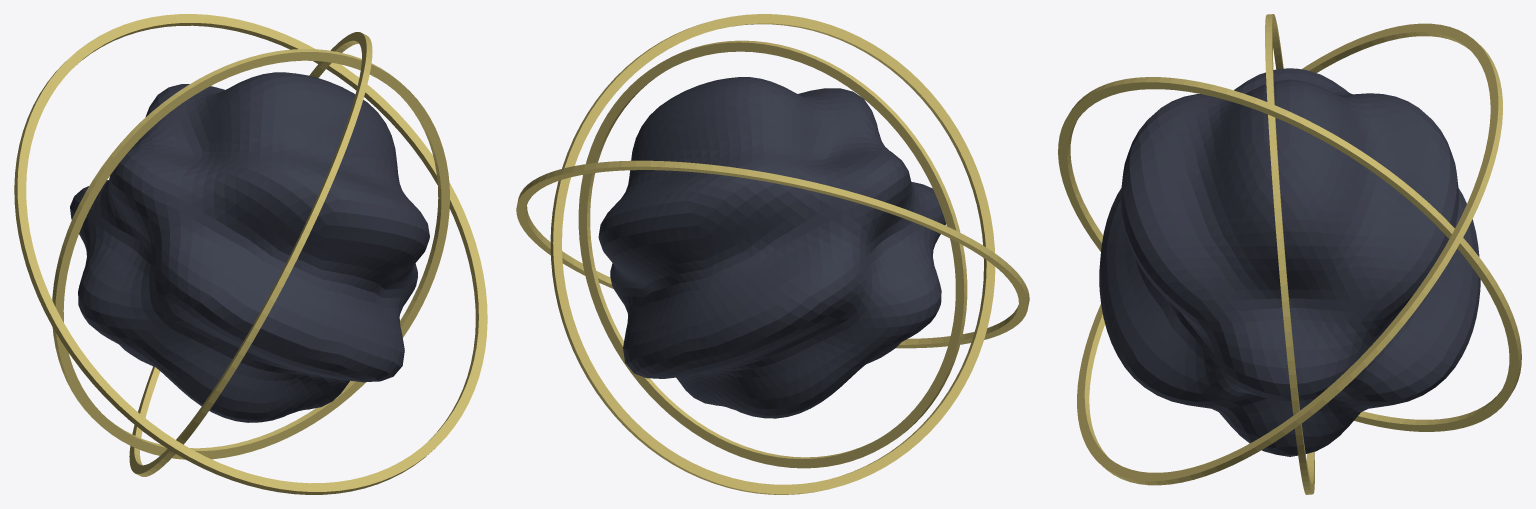
Rendered from gpu-artifact.glb.
3 views of the same model, side by side, from view 1: azimuth 30°, elevation 25°; view 2: azimuth 150°, elevation 25°; view 3: azimuth 270°, elevation 25° (orthographic). The views are drawn at different scales.
Parts seen in each view (by area): view 1: zoth-bounty_obsidian_core, zoth-bounty_orbital_ring_2, zoth-bounty_orbital_ring_0, zoth-bounty_orbital_ring_1; view 2: zoth-bounty_obsidian_core, zoth-bounty_orbital_ring_1, zoth-bounty_orbital_ring_0, zoth-bounty_orbital_ring_2; view 3: zoth-bounty_obsidian_core, zoth-bounty_orbital_ring_2, zoth-bounty_orbital_ring_1, zoth-bounty_orbital_ring_0.
Part boxes in pixels (x1=…): zoth-bounty_obsidian_core: x1=70, y1=72, x2=429, y2=422; zoth-bounty_orbital_ring_2: x1=14, y1=14, x2=487, y2=494; zoth-bounty_orbital_ring_0: x1=52, y1=49, x2=449, y2=459; zoth-bounty_orbital_ring_1: x1=129, y1=32, x2=372, y2=476; zoth-bounty_obsidian_core: x1=598, y1=77, x2=945, y2=418; zoth-bounty_orbital_ring_1: x1=550, y1=14, x2=995, y2=494; zoth-bounty_orbital_ring_0: x1=578, y1=40, x2=967, y2=468; zoth-bounty_orbital_ring_2: x1=516, y1=160, x2=1029, y2=348; zoth-bounty_obsidian_core: x1=1099, y1=68, x2=1480, y2=456; zoth-bounty_orbital_ring_2: x1=1077, y1=23, x2=1502, y2=485; zoth-bounty_orbital_ring_1: x1=1058, y1=77, x2=1521, y2=431; zoth-bounty_orbital_ring_0: x1=1265, y1=14, x2=1314, y2=494.
Size of the model in its own units: 3.2 by 2.75 by 2.66.
